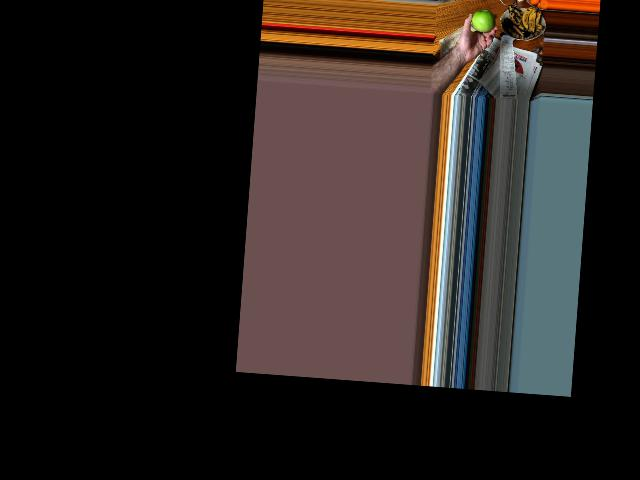apple: (468, 5, 495, 35)
